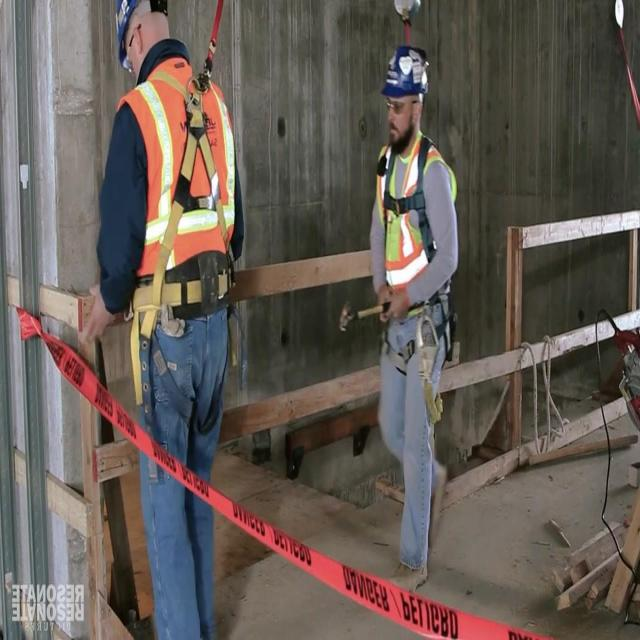Reflective-Jacket: (107, 59, 243, 309), (363, 130, 465, 327)
Safety-Helmet: (375, 38, 434, 108), (106, 0, 172, 47)
